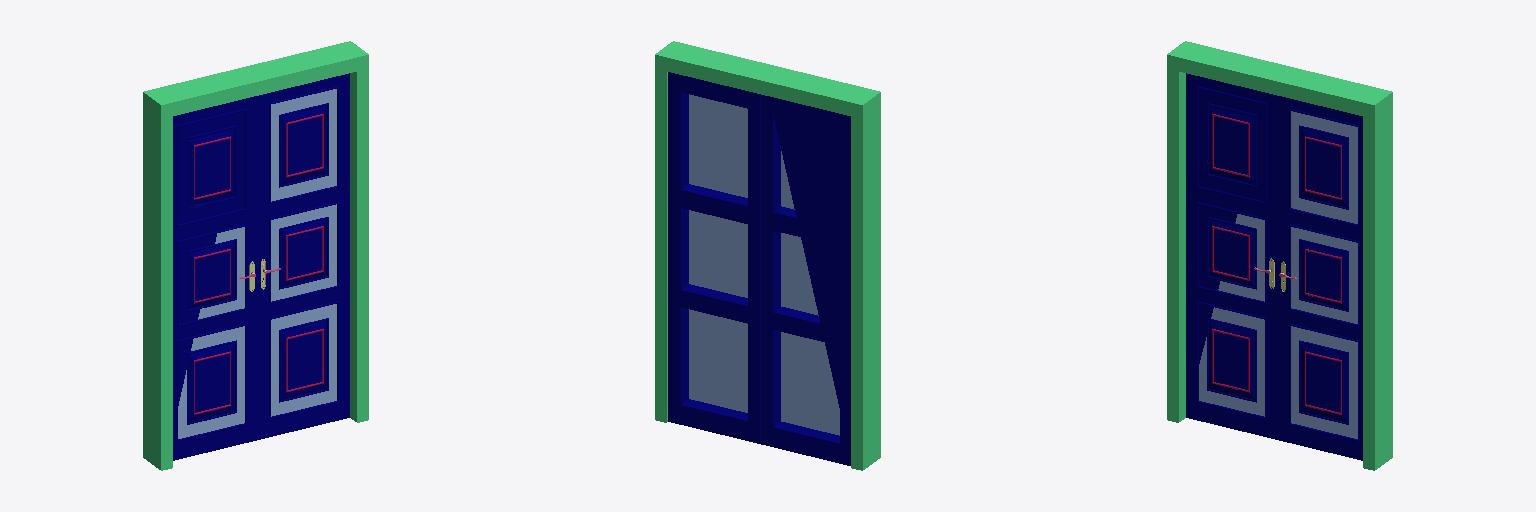
The picture shows the model from 3 angles: view 1: azimuth 30°, elevation 25°; view 2: azimuth 150°, elevation 25°; view 3: azimuth 330°, elevation 25°; orthographic projection.
Visible parts, largest first — view 1: Rectangle14, Rectangle15, Rectangle09, Rectangle18, Rectangle12, Box12, Box13, Rectangle10, Rectangle16, Rectangle11, Rectangle17, Rectangle13 (+1 smaller); view 2: Rectangle15, Rectangle14, Rectangle09, Box12, Box13; view 3: Rectangle14, Rectangle15, Rectangle09, Rectangle12, Box12, Rectangle18, Box13, Rectangle16, Rectangle10, Rectangle17, Rectangle11, Rectangle19 (+1 smaller).
Part boxes in pixels (left/top/right/bottom): Rectangle14: left=143, top=41, right=368, bottom=470; Rectangle15: left=173, top=96, right=257, bottom=460; Rectangle09: left=258, top=73, right=349, bottom=439; Rectangle18: left=188, top=130, right=234, bottom=422; Rectangle12: left=281, top=105, right=326, bottom=399; Box12: left=271, top=89, right=336, bottom=416; Box13: left=178, top=227, right=244, bottom=438; Rectangle10: left=269, top=86, right=338, bottom=418; Rectangle16: left=177, top=109, right=246, bottom=441; Rectangle11: left=279, top=103, right=328, bottom=402; Rectangle17: left=187, top=125, right=236, bottom=424; Rectangle13: left=286, top=114, right=323, bottom=392; Rectangle15: left=761, top=95, right=850, bottom=465; Rectangle14: left=655, top=41, right=880, bottom=470; Rectangle09: left=668, top=72, right=760, bottom=443; Box12: left=689, top=94, right=747, bottom=412; Box13: left=781, top=151, right=839, bottom=435; Rectangle14: left=1167, top=41, right=1392, bottom=470; Rectangle15: left=1186, top=73, right=1277, bottom=439; Rectangle09: left=1278, top=96, right=1362, bottom=460; Rectangle12: left=1301, top=128, right=1347, bottom=422; Box12: left=1291, top=111, right=1357, bottom=438; Rectangle18: left=1209, top=107, right=1254, bottom=399; Box13: left=1199, top=214, right=1264, bottom=416; Rectangle16: left=1197, top=86, right=1266, bottom=418; Rectangle10: left=1289, top=109, right=1358, bottom=441; Rectangle17: left=1207, top=103, right=1256, bottom=402; Rectangle11: left=1299, top=125, right=1348, bottom=424; Rectangle19: left=1212, top=114, right=1249, bottom=392.
Bounding box in the file's own units: 1294 × 2174 × 200.